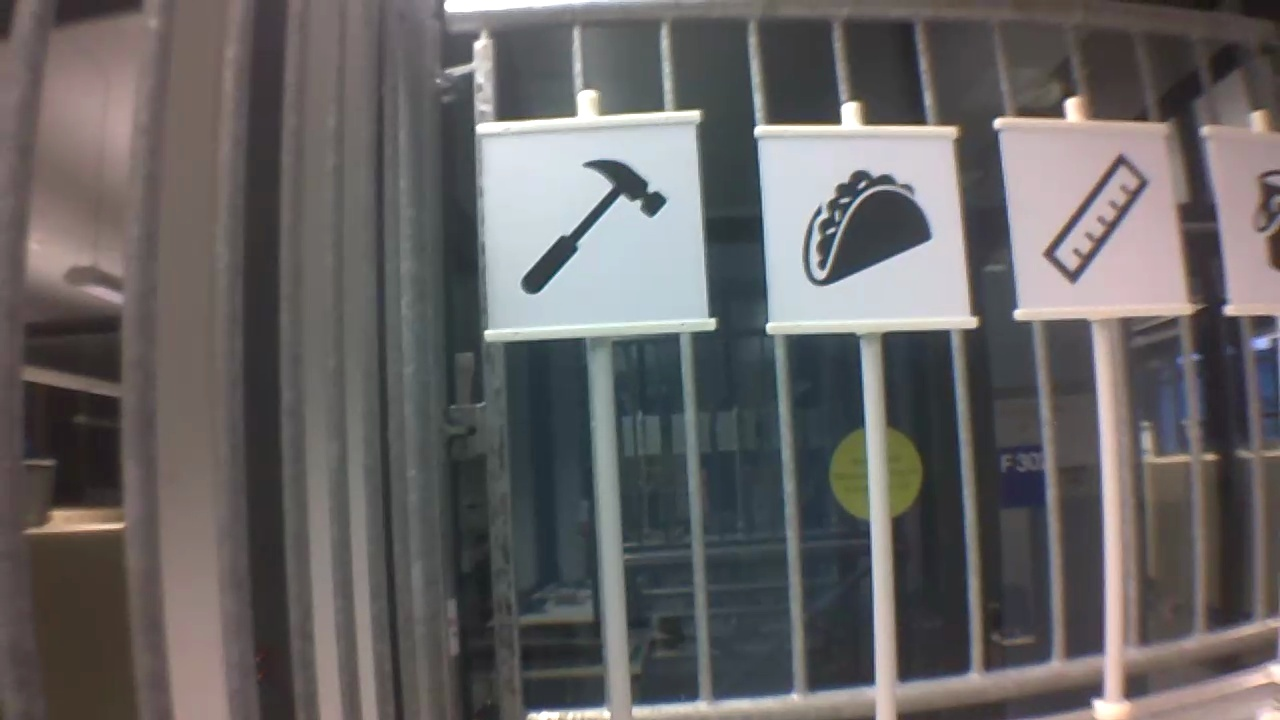hammer: (516, 151, 672, 296)
ruler: (1035, 149, 1158, 290)
taco: (800, 158, 935, 288)
